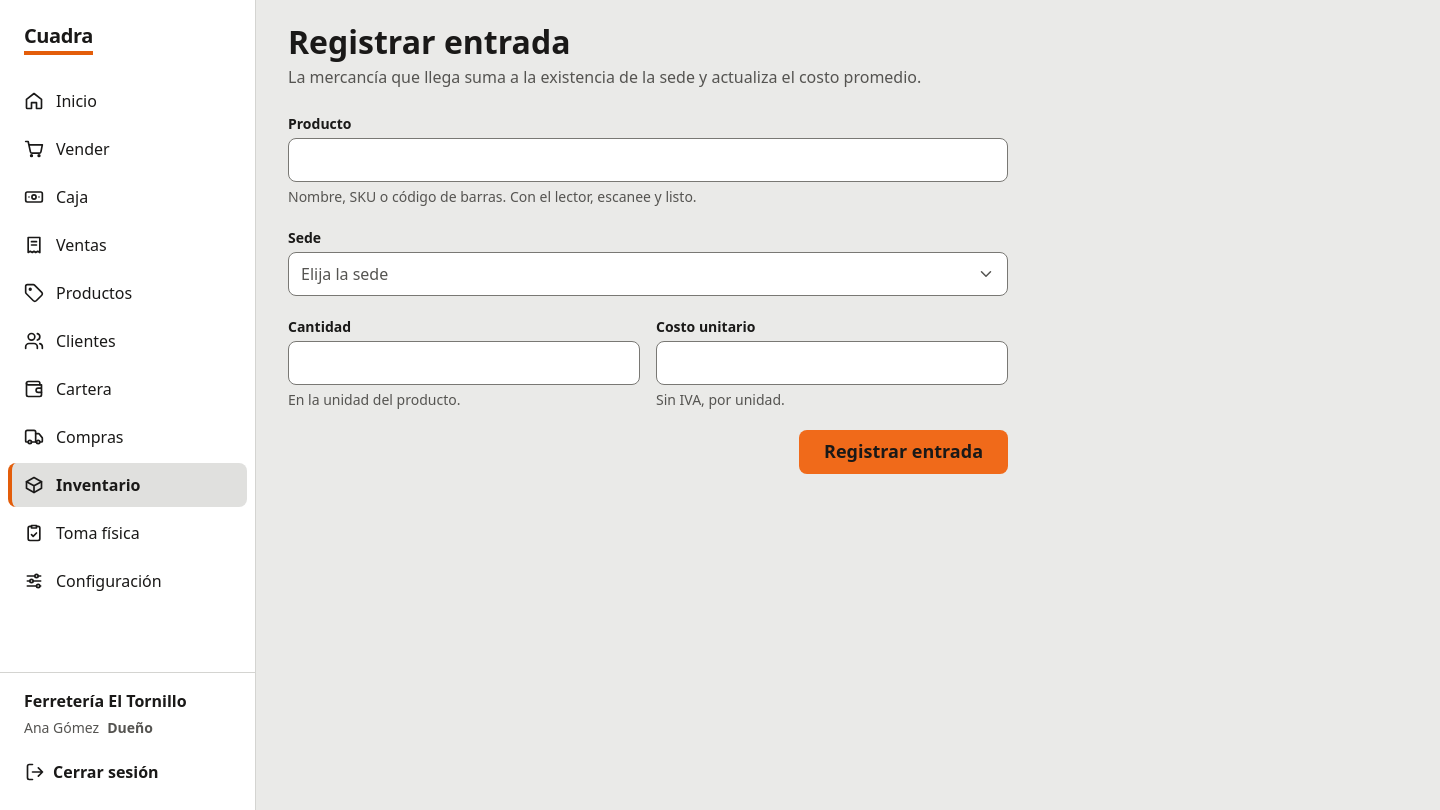
Test case: ReceiptPage › variantes › elige una variante, propone su costo y envía su variant_id
This screenshot has width=1440, height=810.
Type "camiseta" into the search field labelled "Producto" at {"x": 648, "y": 160}, box x1=288 y1=138 x2=1008 y2=182
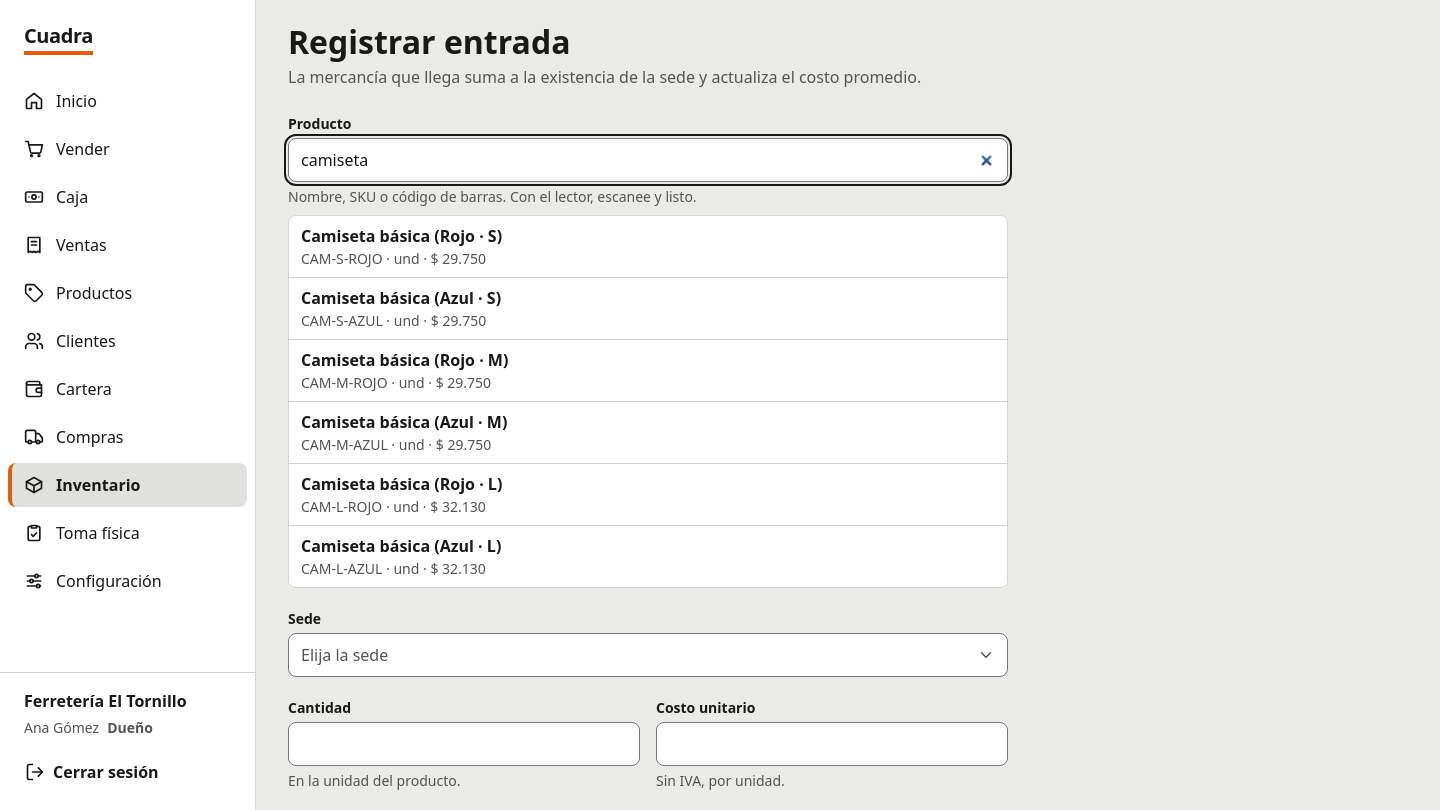
Result: the number of buttons "Camiseta básica (Rojo · S) CAM-S-ROJO · und · $ 29.750" is 6
Click the button "Camiseta básica (Azul · M) CAM-M-AZUL · und · $ 29.750" at {"x": 404, "y": 422}, box x1=289 y1=402 x2=1007 y2=463
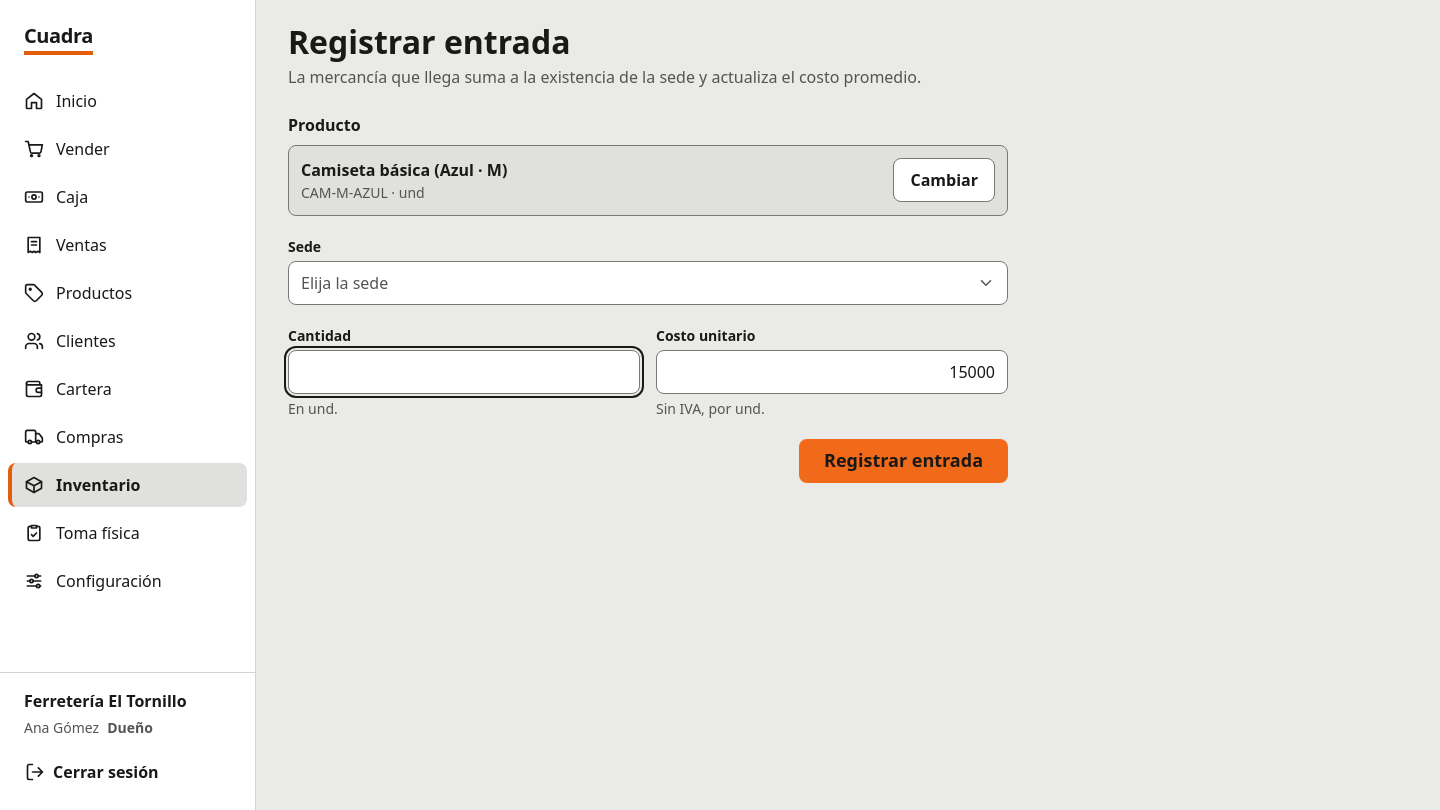
Click the dropdown labelled "sede" at {"x": 345, "y": 283}, box x1=288 y1=261 x2=1008 y2=305
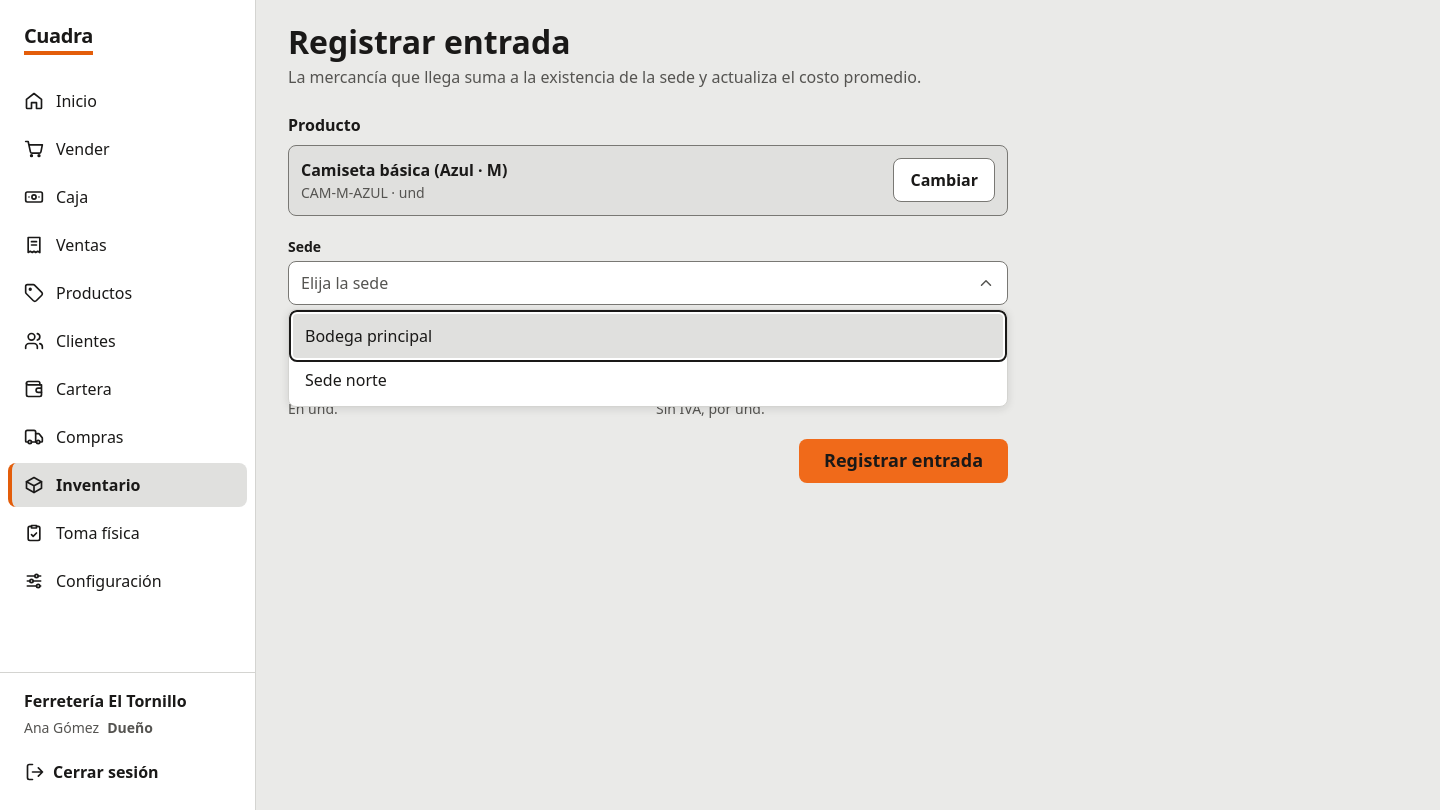
Click the option "Bodega principal" at {"x": 369, "y": 336}, box x1=293 y1=314 x2=1003 y2=358
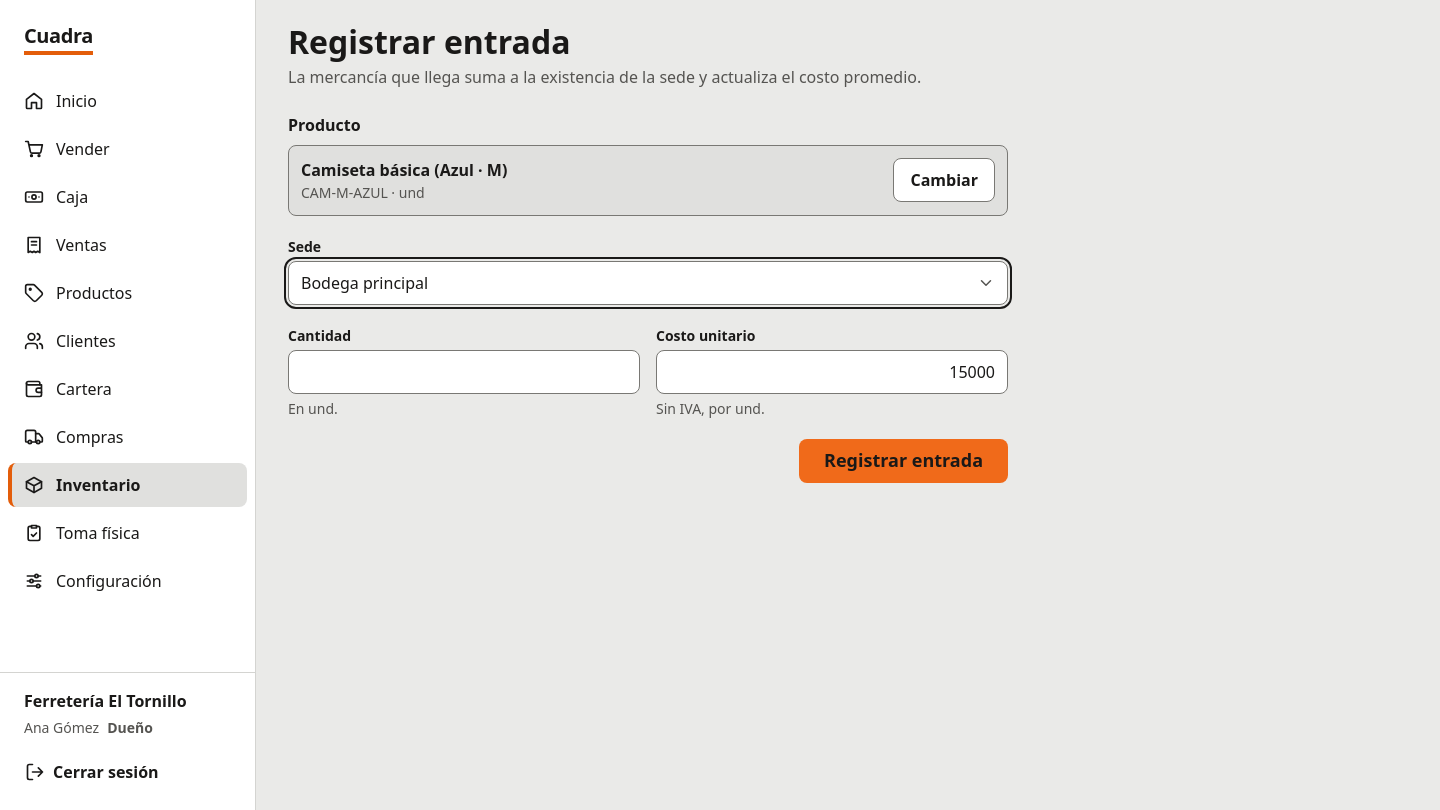
Type "12" into the field labelled "Cantidad" at {"x": 464, "y": 372}, box x1=288 y1=350 x2=640 y2=394
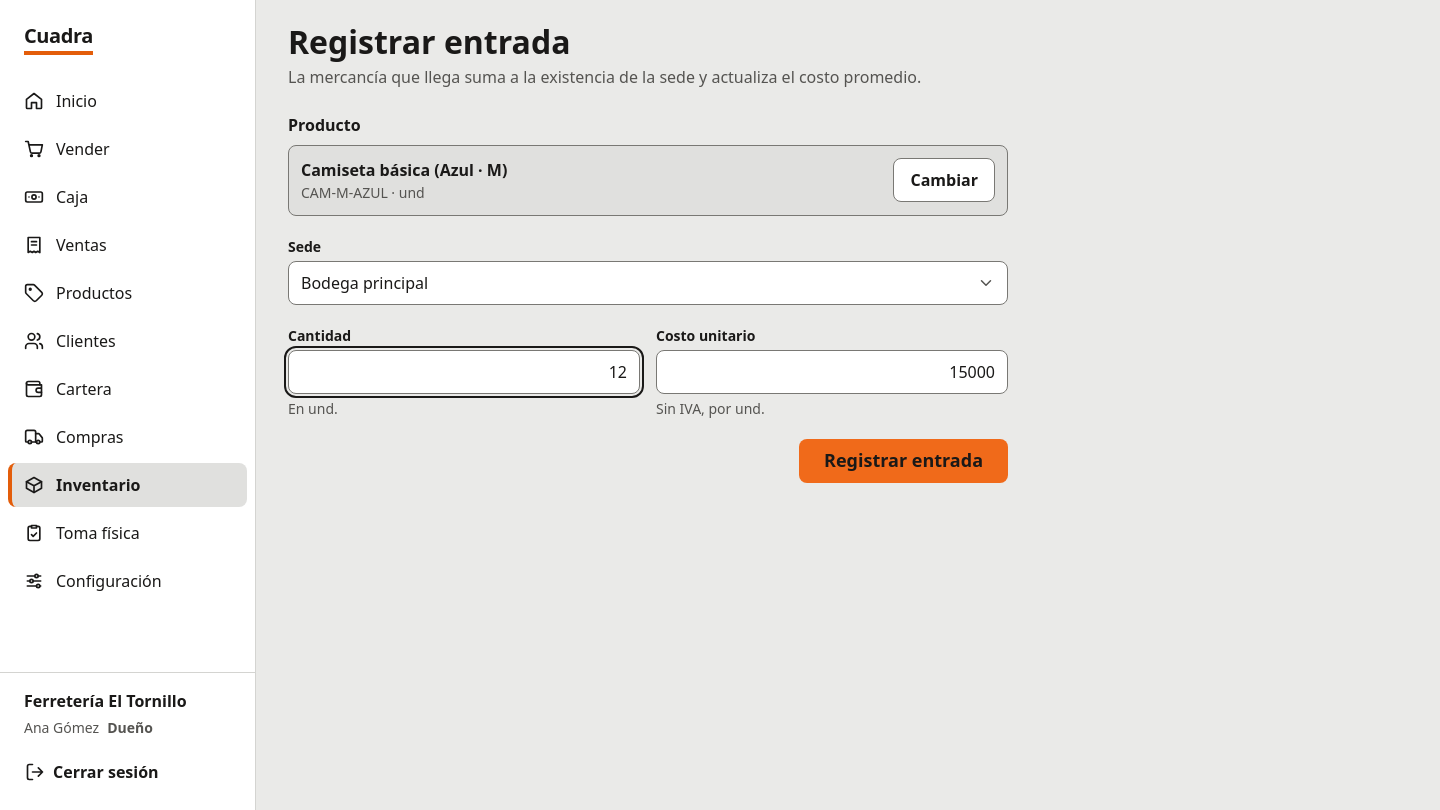
Result: the field labelled "Costo unitario" holds "15000" at x1=656 y1=350 x2=1008 y2=394
Click the button "Registrar entrada" at {"x": 904, "y": 461}, box x1=799 y1=439 x2=1008 y2=483
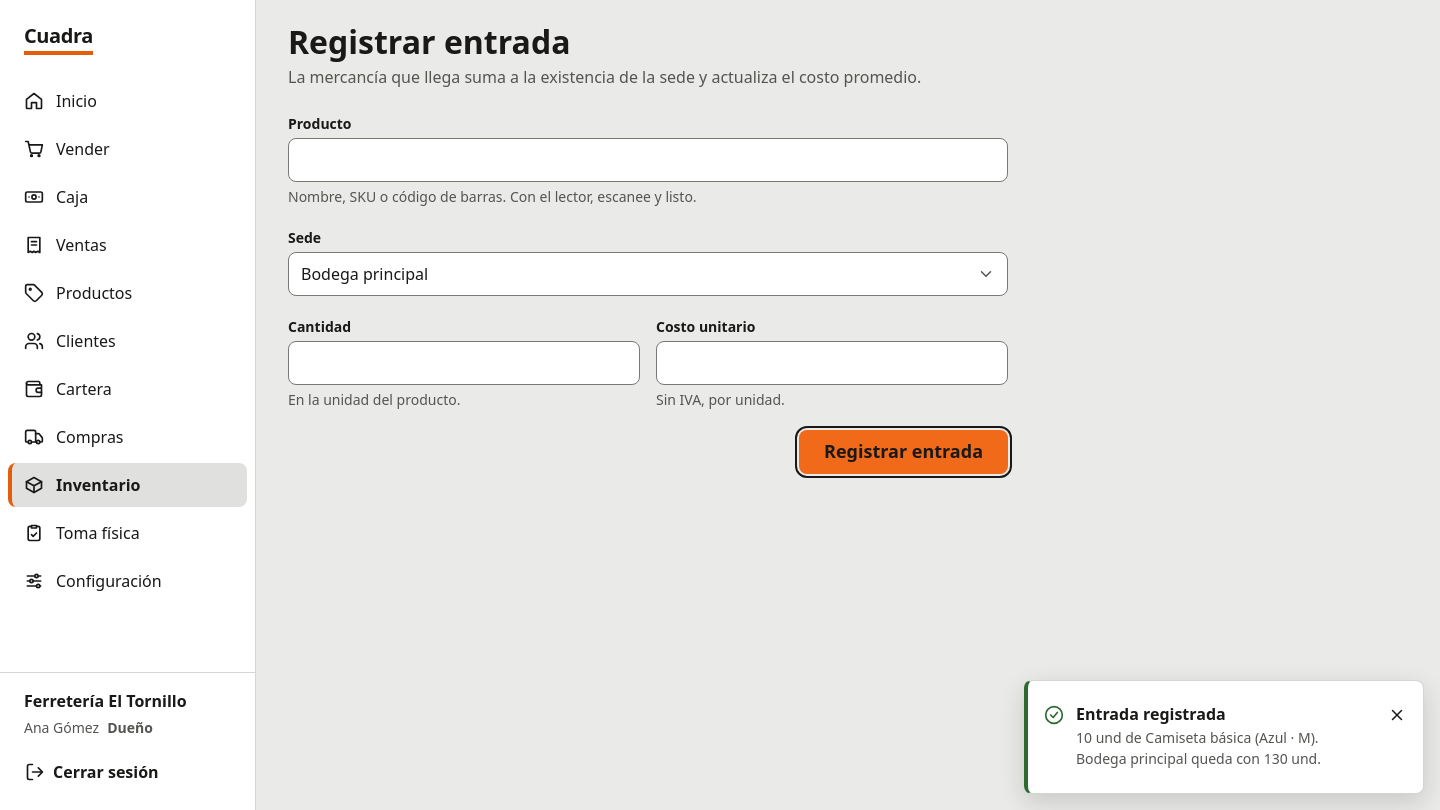
Result: the text "Entrada registrada" is shown at x1=1076 y1=703 x2=1226 y2=725
Result: the text "und de Camiseta básica (Azul · M). Bodega principal queda con" is shown at x1=1076 y1=728 x2=1321 y2=768
